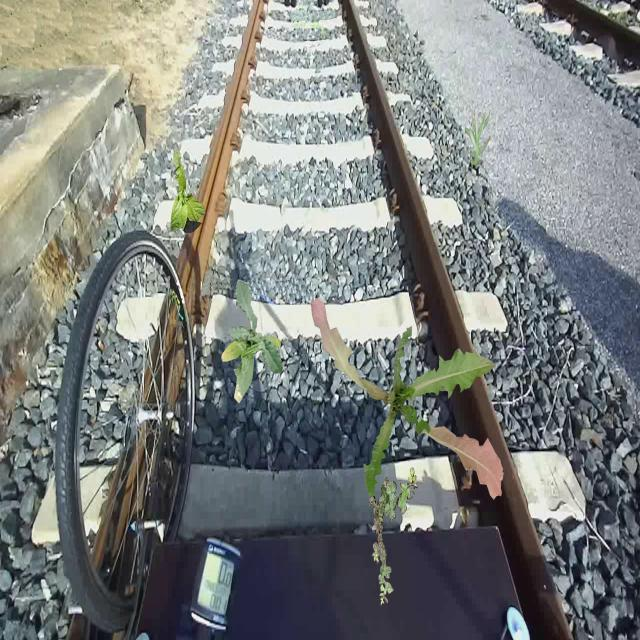Plant: (311, 298, 504, 500), (221, 279, 284, 404), (369, 468, 418, 606), (170, 150, 205, 234), (465, 110, 492, 166)
